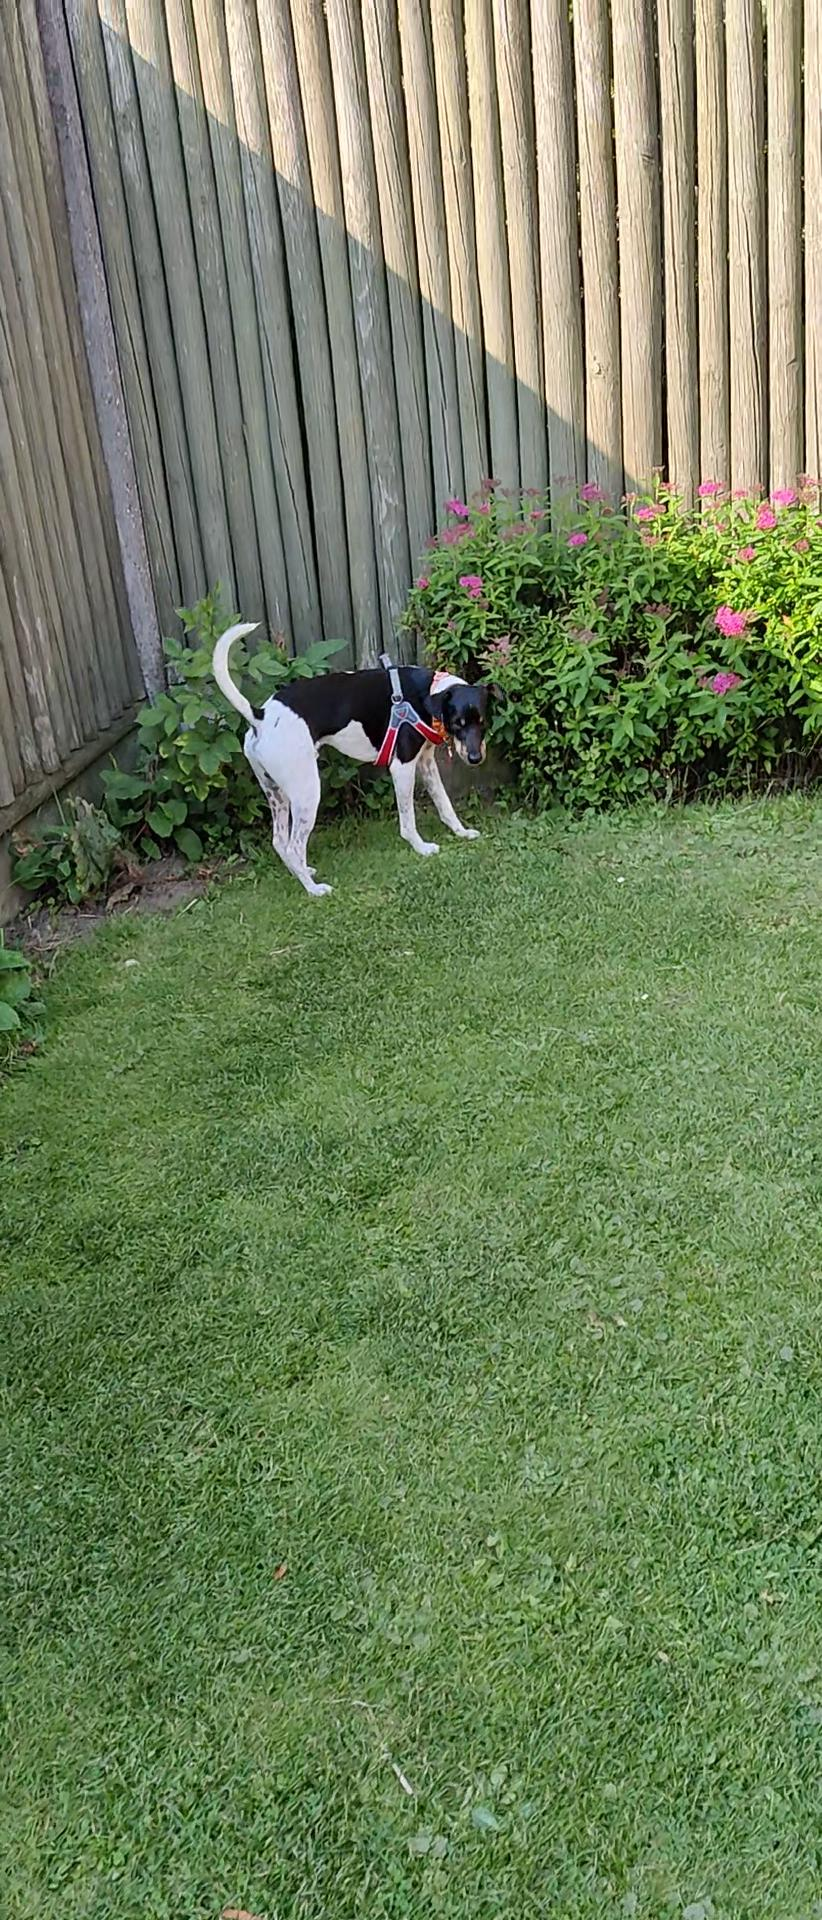Dog: (196, 611, 510, 900)
